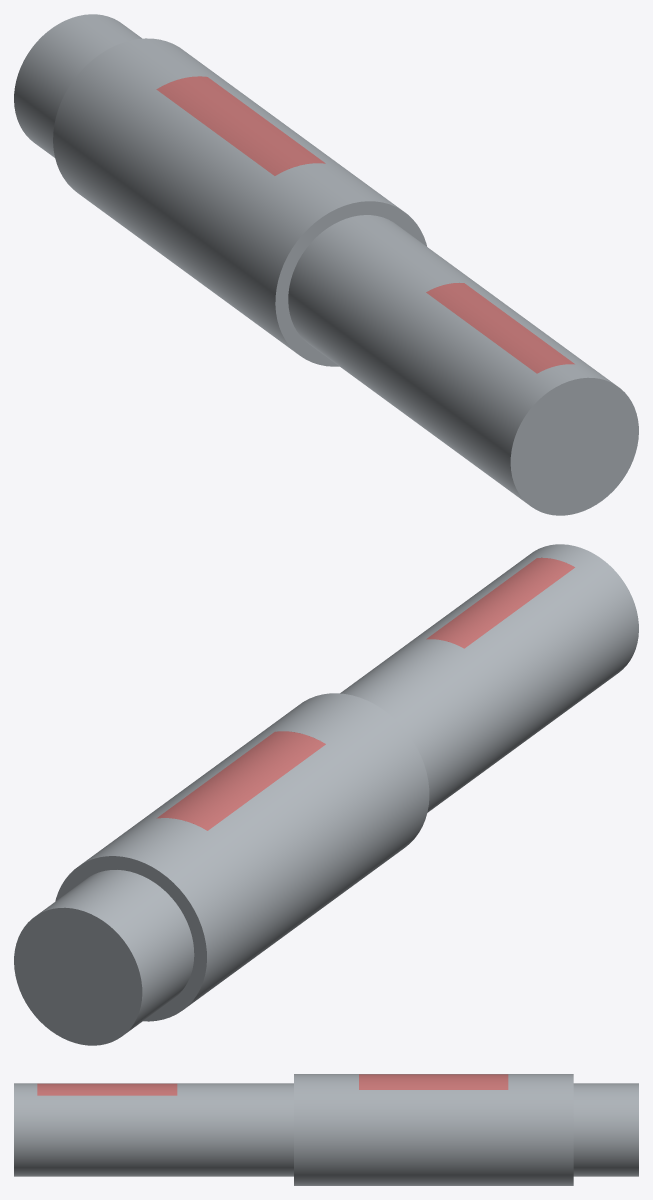
Rendered from step_18.glb.
The picture shows the model from 3 angles, top to bottom: view 1: azimuth 30°, elevation 25°; view 2: azimuth 150°, elevation 25°; view 3: azimuth 270°, elevation 25°; orthographic projection. The views are drawn at different scales.
Parts seen in each view (by area): view 1: part__output shaft, removed__output shaft; view 2: part__output shaft, removed__output shaft; view 3: part__output shaft, removed__output shaft.
Boxes of the visible parts, x1,y1,x2,y2 form: part__output shaft: [14, 14, 638, 515]; removed__output shaft: [156, 76, 574, 373]; part__output shaft: [14, 544, 638, 1045]; removed__output shaft: [156, 557, 574, 830]; part__output shaft: [14, 1074, 638, 1185]; removed__output shaft: [37, 1074, 508, 1095].
Bounding box in the file's own units: 23.99 × 23.99 × 134.
